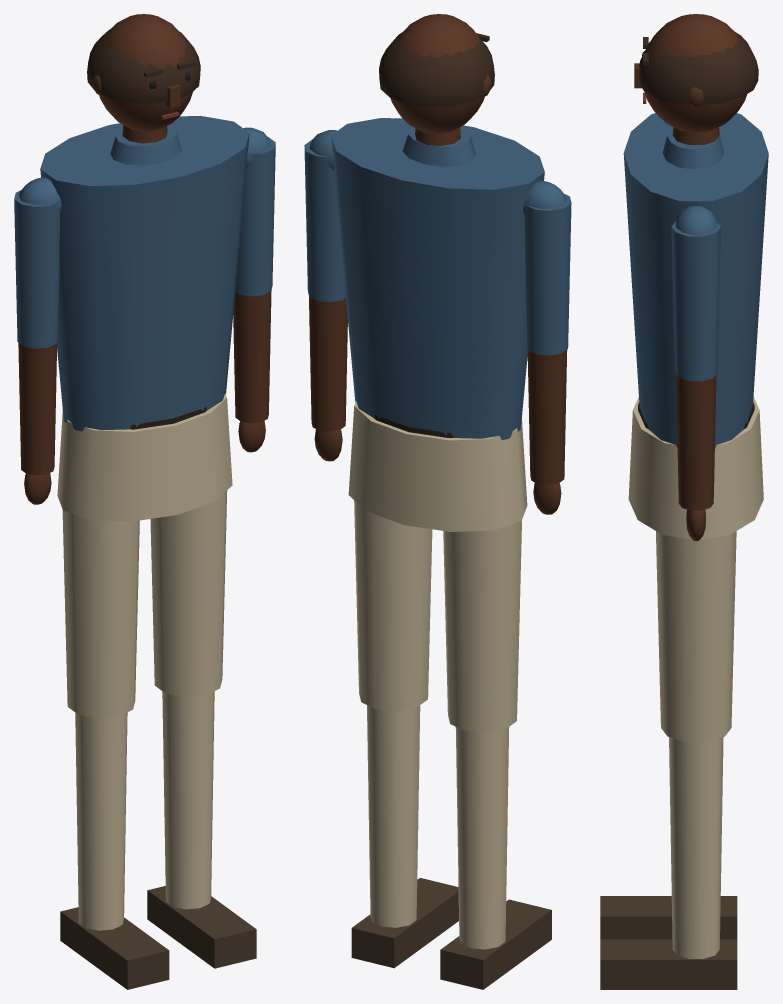
File: person-1990s.glb
3 renders of one model, left to right at view 1: azimuth 30°, elevation 25°; view 2: azimuth 150°, elevation 25°; view 3: azimuth 270°, elevation 25°, orthographic. The views are drawn at different scales.
Visible parts, largest first — view 1: spine, hips, shinR, shinL, thighL, thighR, neck, upperArmL, forearmL, forearmR, upperArmR, shoulderL; view 2: spine, hips, shinL, shinR, thighL, thighR, neck, upperArmL, forearmL, forearmR, upperArmR, shoulderL; view 3: spine, shinR, thighR, neck, hips, upperArmR, forearmR, shinL, shoulderR.
Boxes of the visible parts, x1,y1,x2,y2 form: spine: [40, 115, 249, 431]; hips: [57, 393, 232, 521]; shinR: [147, 691, 256, 968]; shinL: [60, 712, 169, 989]; thighL: [62, 510, 139, 718]; thighR: [150, 490, 227, 696]; neck: [87, 14, 200, 143]; upperArmL: [14, 190, 59, 348]; forearmL: [18, 342, 57, 504]; forearmR: [233, 290, 271, 452]; upperArmR: [235, 137, 275, 296]; shoulderL: [19, 177, 61, 212]; spine: [331, 118, 544, 439]; hips: [348, 401, 527, 531]; shinL: [440, 727, 551, 989]; shinR: [351, 705, 458, 968]; thighL: [443, 520, 521, 732]; thighR: [354, 500, 432, 710]; neck: [379, 14, 494, 146]; upperArmL: [524, 194, 571, 355]; forearmL: [527, 349, 567, 514]; forearmR: [309, 297, 347, 461]; upperArmR: [304, 139, 345, 302]; shoulderL: [523, 181, 566, 216]; spine: [623, 113, 768, 448]; shinR: [600, 737, 737, 989]; thighR: [656, 531, 736, 741]; neck: [634, 14, 758, 144]; hips: [628, 397, 763, 539]; upperArmR: [671, 221, 720, 381]; forearmR: [676, 374, 716, 541]; shinL: [600, 896, 737, 939]; shoulderR: [676, 206, 716, 234].
Size of the model in its own units: 0.5456 by 1.89 by 0.3072.
